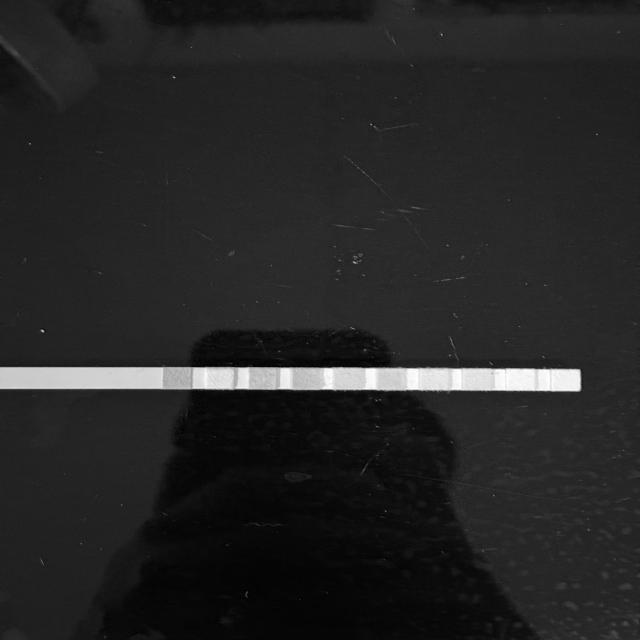Bilirubin: (208, 368, 232, 388)
Blood: (335, 369, 362, 389)
Glucose: (164, 368, 191, 388)
Ketone: (250, 368, 276, 388)
Leukocytes: (552, 370, 579, 390)
Nitrite: (506, 369, 536, 390)
Protein: (420, 369, 448, 390)
SpGravity: (293, 368, 319, 389)
Urobilinogen: (463, 369, 490, 390)
background: (0, 0, 640, 640)
pH: (378, 369, 405, 389)
strip: (7, 367, 581, 391)
